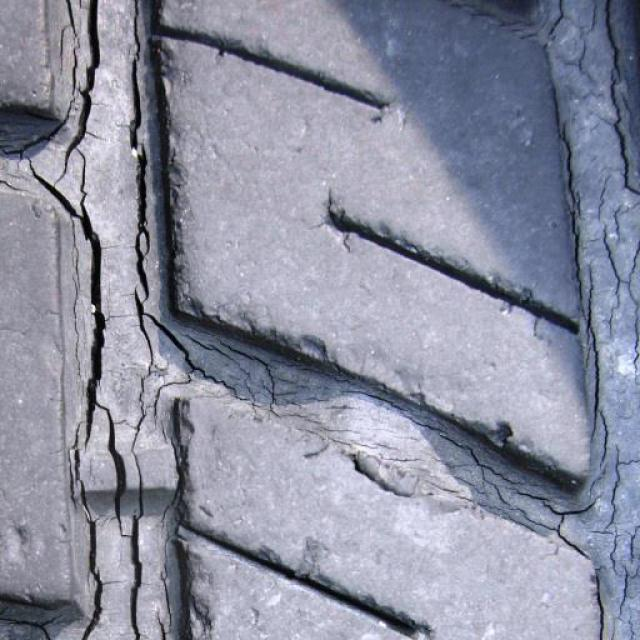Cracks: (0, 0, 220, 640), (219, 296, 521, 558), (520, 0, 640, 640)
